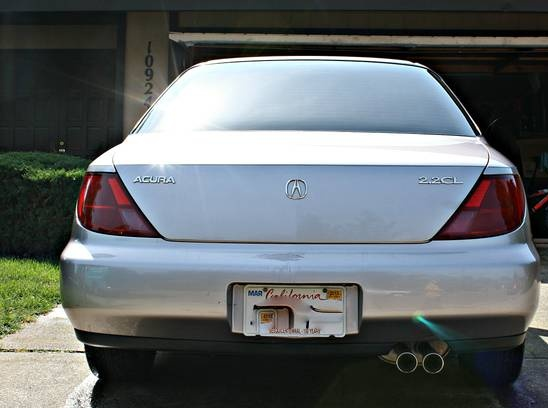acura: (41, 45, 547, 393)
